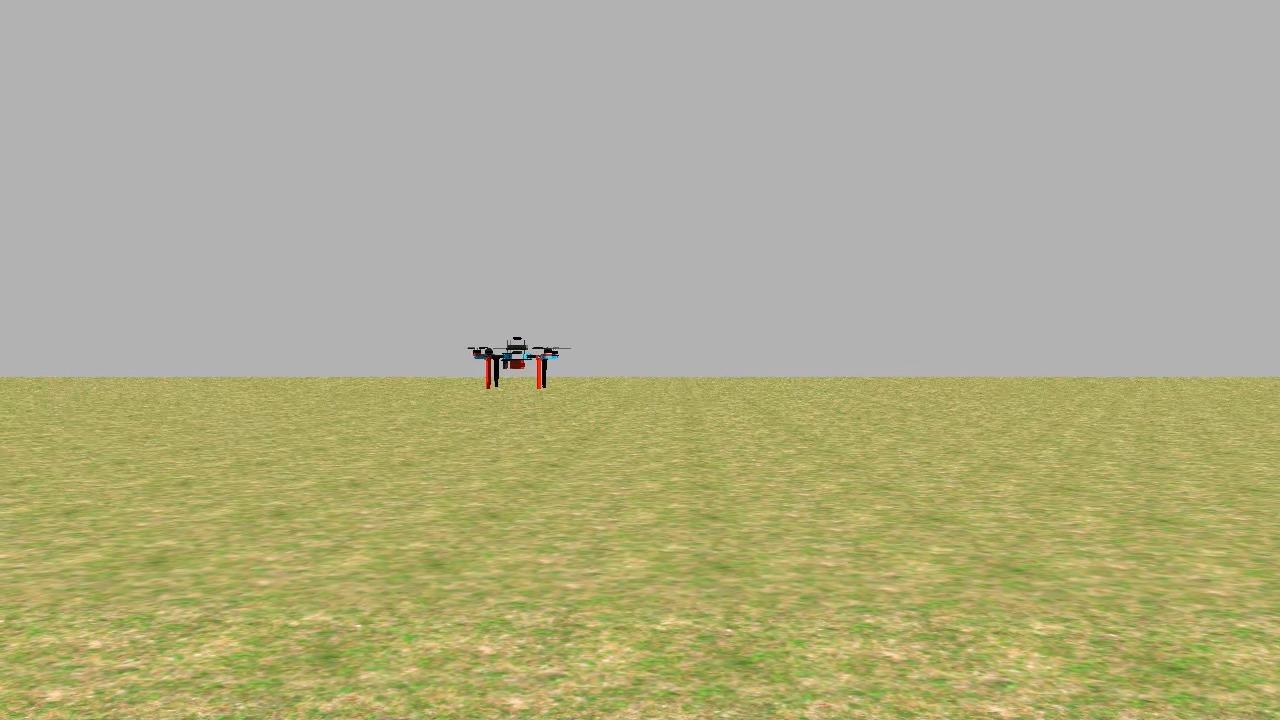UAV: (457, 332, 578, 394)
